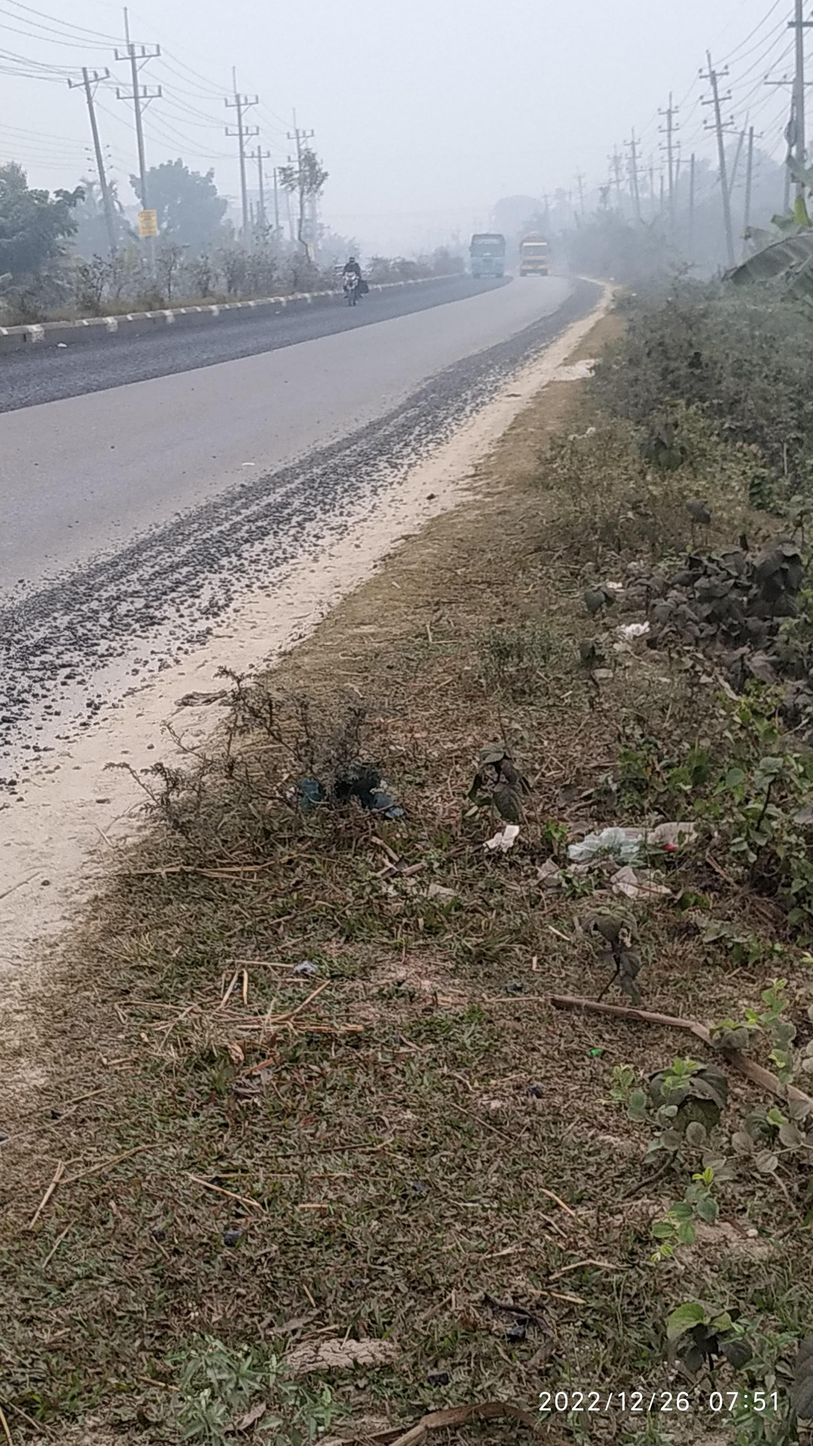Bike: (323, 245, 400, 325)
Bus: (456, 214, 512, 304)
Truck: (518, 227, 580, 294)
